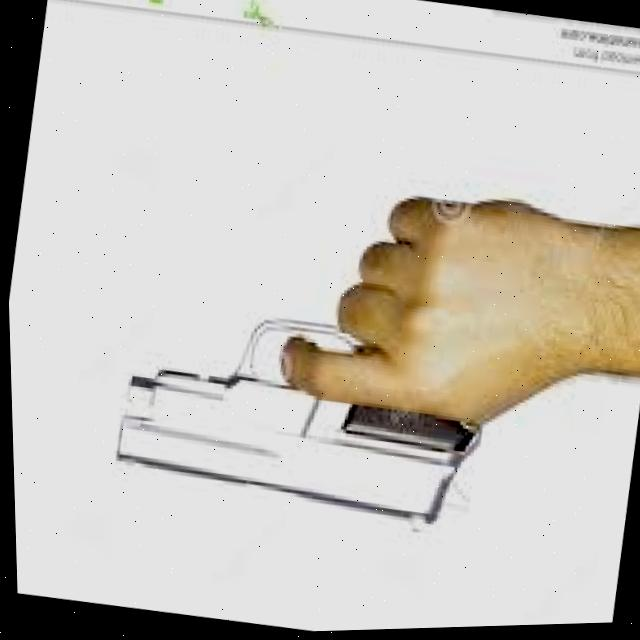pistol: (97, 287, 502, 558)
